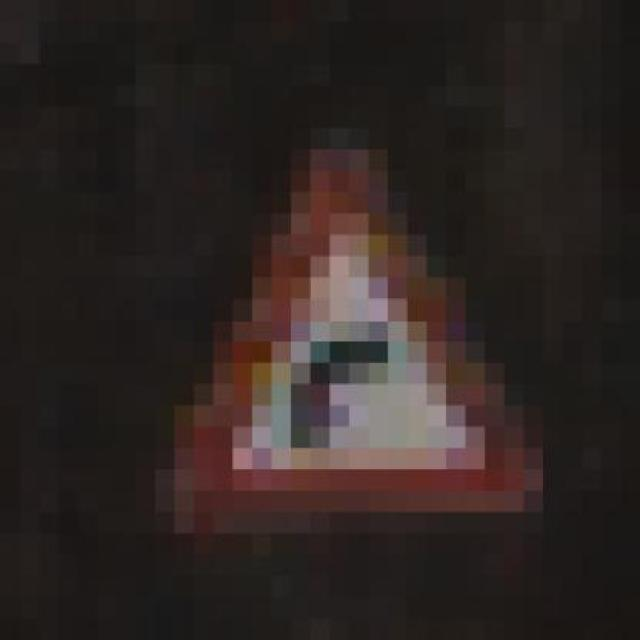Dangerous Rright Curve Ahead: (116, 128, 562, 555)
